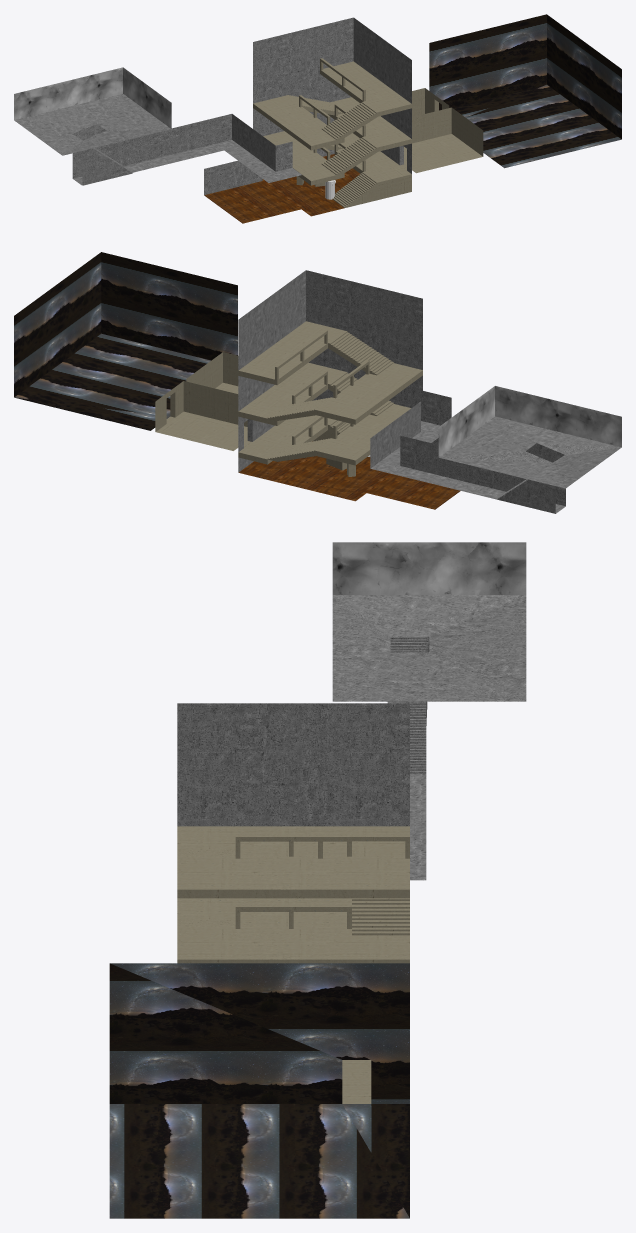
Rendered from test-env.glb.
3 views of the same model, one above another, from view 1: azimuth 30°, elevation 25°; view 2: azimuth 150°, elevation 25°; view 3: azimuth 270°, elevation 25° (orthographic). The views are drawn at different scales.
Parts seen in each view (by area): view 1: main-col (×2), Anvil.Box.010-col.002, Anvil.Box.010-col.003, Anvil.Box.010-col, Anvil.Box.010-col.001, Anvil.Box.006-col, Anvil.Stair-col, Anvil.Stair.001-col, Anvil.Stair.004-col, Anvil.Box.007-col, Anvil.Stair.003-col; view 2: main-col (×2), Anvil.Box.010-col.002, Anvil.Box.010-col.003, Anvil.Box.010-col.001, Anvil.Box.010-col, Anvil.Box.007-col, Anvil.Stair.004-col, Anvil.Stair.002-col, Anvil.Stair.003-col, Anvil.Stair.001-col; view 3: main-col (×2), Anvil.Box.010-col.003, Anvil.Box.010-col.001, Anvil.Box.010-col.002, Anvil.Box.010-col, Anvil.Stair.003-col, rail-col.
Boxes of the visible parts, box(x1,y1,x2,y2) form: main-col (×2): box(14, 14, 621, 223); Anvil.Box.010-col.002: box(253, 95, 344, 150); Anvil.Box.010-col.003: box(320, 61, 411, 116); Anvil.Box.010-col: box(263, 131, 344, 185); Anvil.Box.010-col.001: box(328, 97, 411, 151); Anvil.Box.006-col: box(364, 163, 411, 199); Anvil.Stair-col: box(332, 172, 378, 207); Anvil.Stair.001-col: box(321, 136, 378, 174); Anvil.Stair.004-col: box(321, 101, 378, 139); Anvil.Box.007-col: box(334, 133, 396, 173); Anvil.Stair.003-col: box(287, 95, 342, 115); main-col (×2): box(14, 252, 621, 513); Anvil.Box.010-col.002: box(316, 363, 422, 424); Anvil.Box.010-col.003: box(238, 321, 344, 385); Anvil.Box.010-col.001: box(238, 362, 344, 425); Anvil.Box.010-col: box(316, 404, 410, 465); Anvil.Box.007-col: box(238, 418, 327, 464); Anvil.Stair.004-col: box(328, 331, 393, 375); Anvil.Stair.002-col: box(267, 438, 332, 461); Anvil.Stair.003-col: box(267, 397, 332, 420); Anvil.Stair.001-col: box(328, 371, 393, 415); main-col (×2): box(109, 542, 526, 1218); Anvil.Box.010-col.003: box(177, 856, 409, 898); Anvil.Box.010-col.001: box(177, 927, 409, 963); Anvil.Box.010-col.002: box(177, 826, 409, 856); Anvil.Box.010-col: box(177, 898, 351, 926); Anvil.Stair.003-col: box(352, 898, 409, 935); rail-col: box(235, 834, 409, 841).
Size of the model in its own units: 60 by 15 by 21.5.
Materials: 6 (6 with a texture image).
